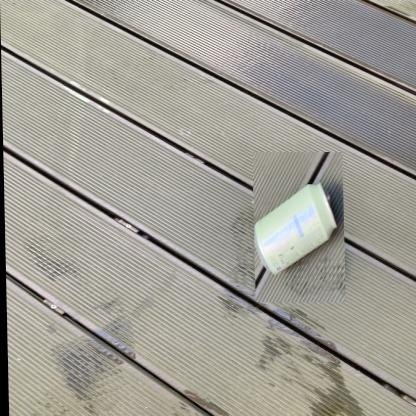trash: (255, 183, 336, 273)
